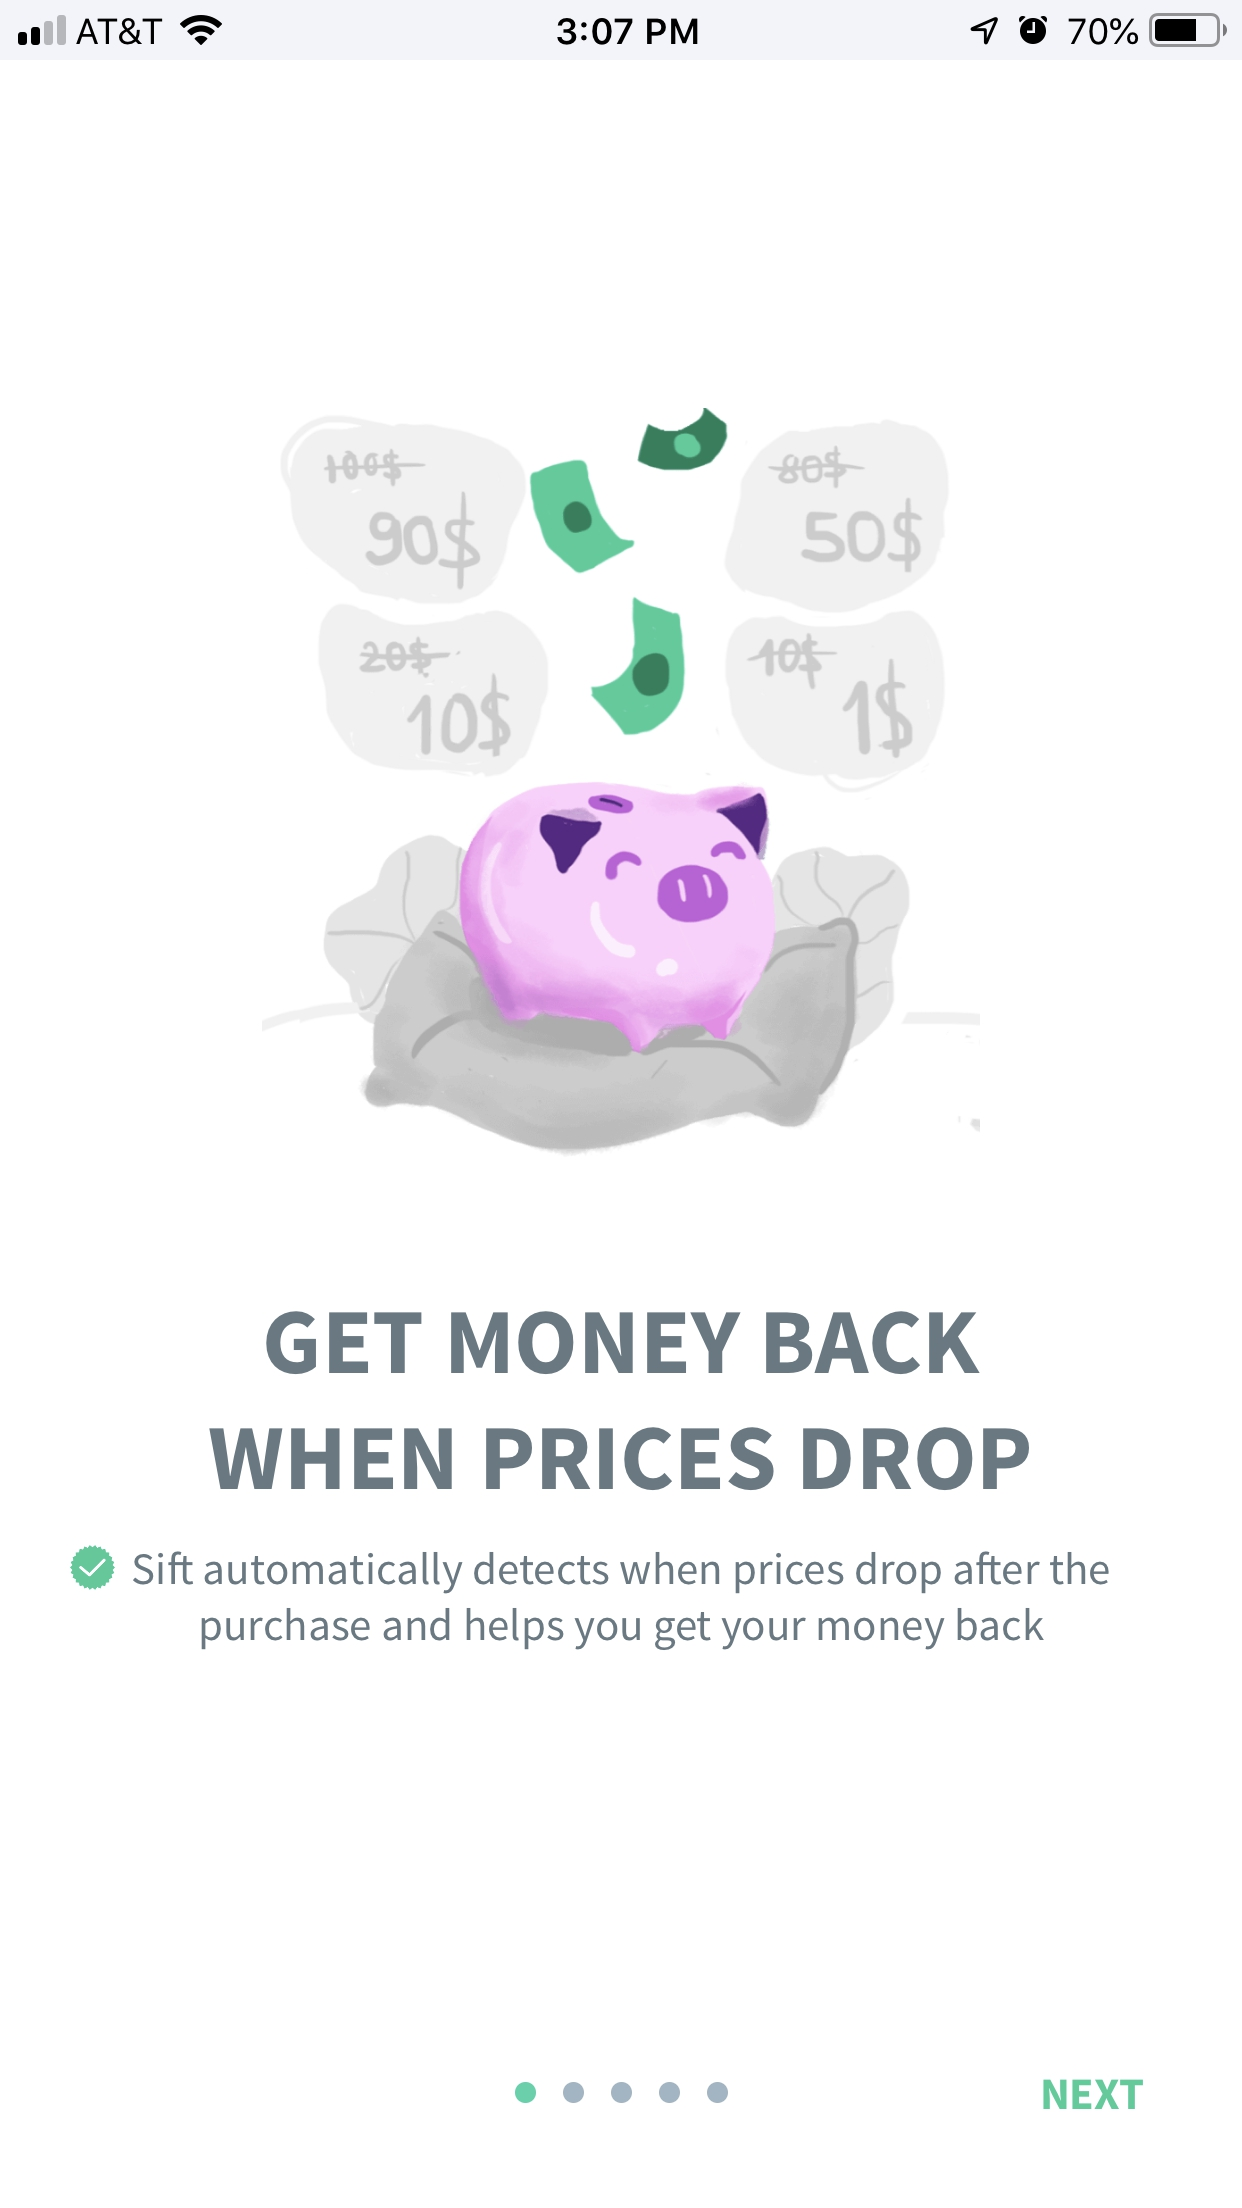Icon: (70, 1545, 117, 1591)
Image: (262, 408, 951, 1159)
PageIndicator: (514, 2081, 729, 2103)
Text: (208, 1310, 1030, 1491), (133, 1550, 1110, 1651), (1043, 2078, 1143, 2109)
UpperTaskBar: (2, 2, 1242, 61)
